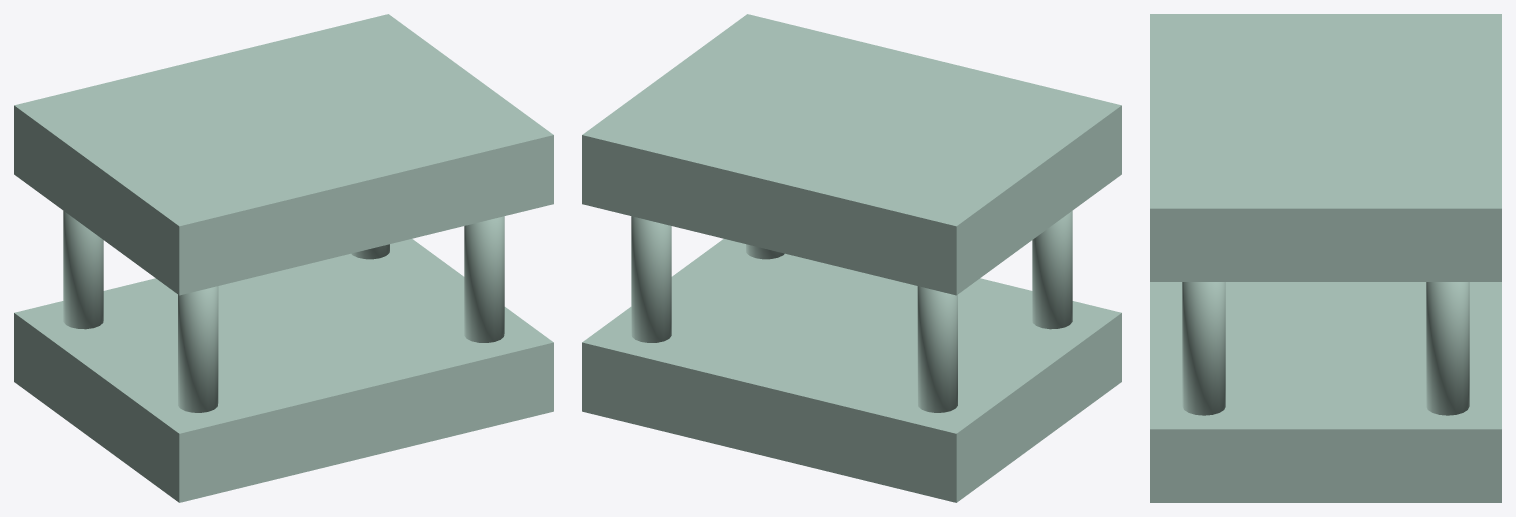
Rendered from mold-base.glb.
The picture shows the model from 3 angles, left to right: view 1: azimuth 30°, elevation 25°; view 2: azimuth 150°, elevation 25°; view 3: azimuth 270°, elevation 25°; orthographic projection. The views are drawn at different scales.
Parts seen in each view (by area): view 1: model-mold-base; view 2: model-mold-base; view 3: model-mold-base.
Part boxes in pixels (x1=…): model-mold-base: x1=14, y1=14, x2=553, y2=502; model-mold-base: x1=582, y1=14, x2=1121, y2=502; model-mold-base: x1=1150, y1=14, x2=1501, y2=502.
Size of the model in its own units: 1.7 by 1.2 by 1.3.
